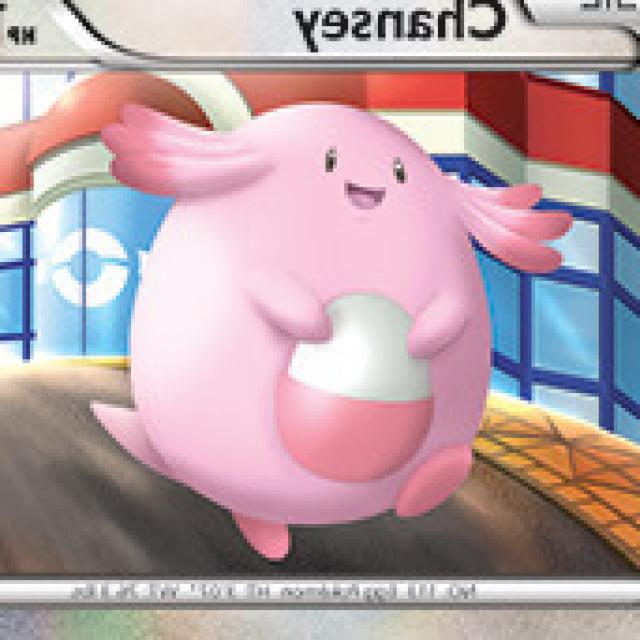Chansey: (121, 103, 485, 509)
